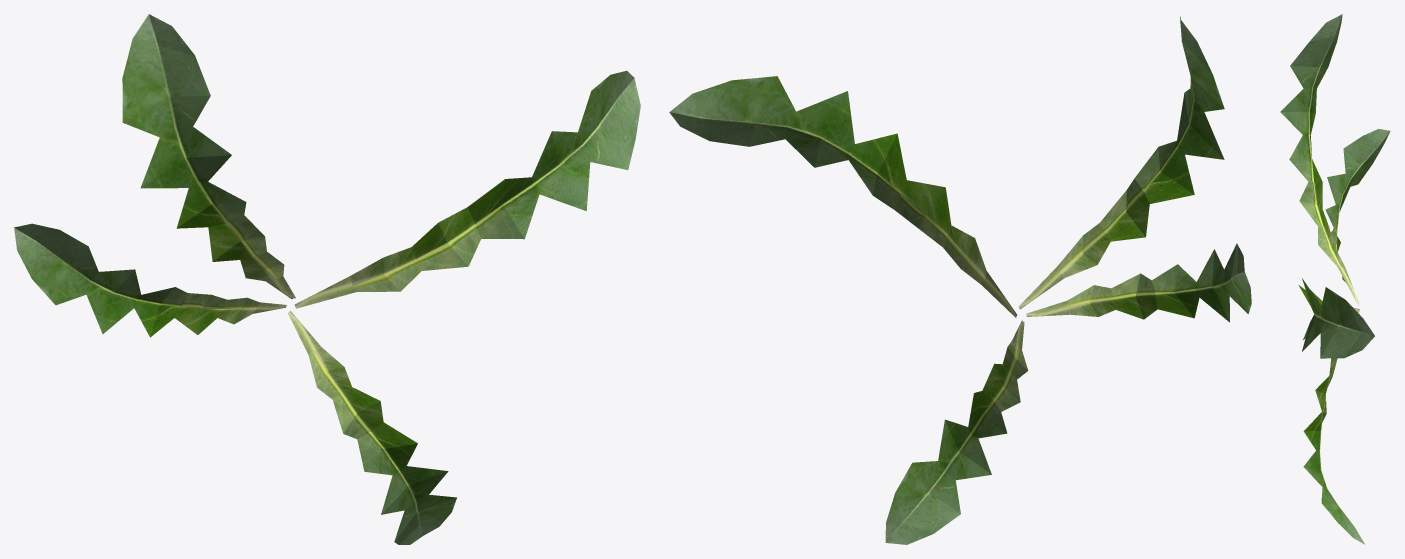
Rendered from taraxacum_07.obj.
3 renders of one model, left to right at view 1: azimuth 30°, elevation 25°; view 2: azimuth 150°, elevation 25°; view 3: azimuth 270°, elevation 25°, orthographic. The views are drawn at different scales.
Parts seen in each view (by area): view 1: taraxacum.006; view 2: taraxacum.006; view 3: taraxacum.006.
Part boxes in pixels (x1,y1,x2,y2): taraxacum.006: (14,14,640,544); taraxacum.006: (669,16,1251,544); taraxacum.006: (1280,14,1390,544).
Size of the model in its own units: 0.095 by 0.0899 by 0.0209.
